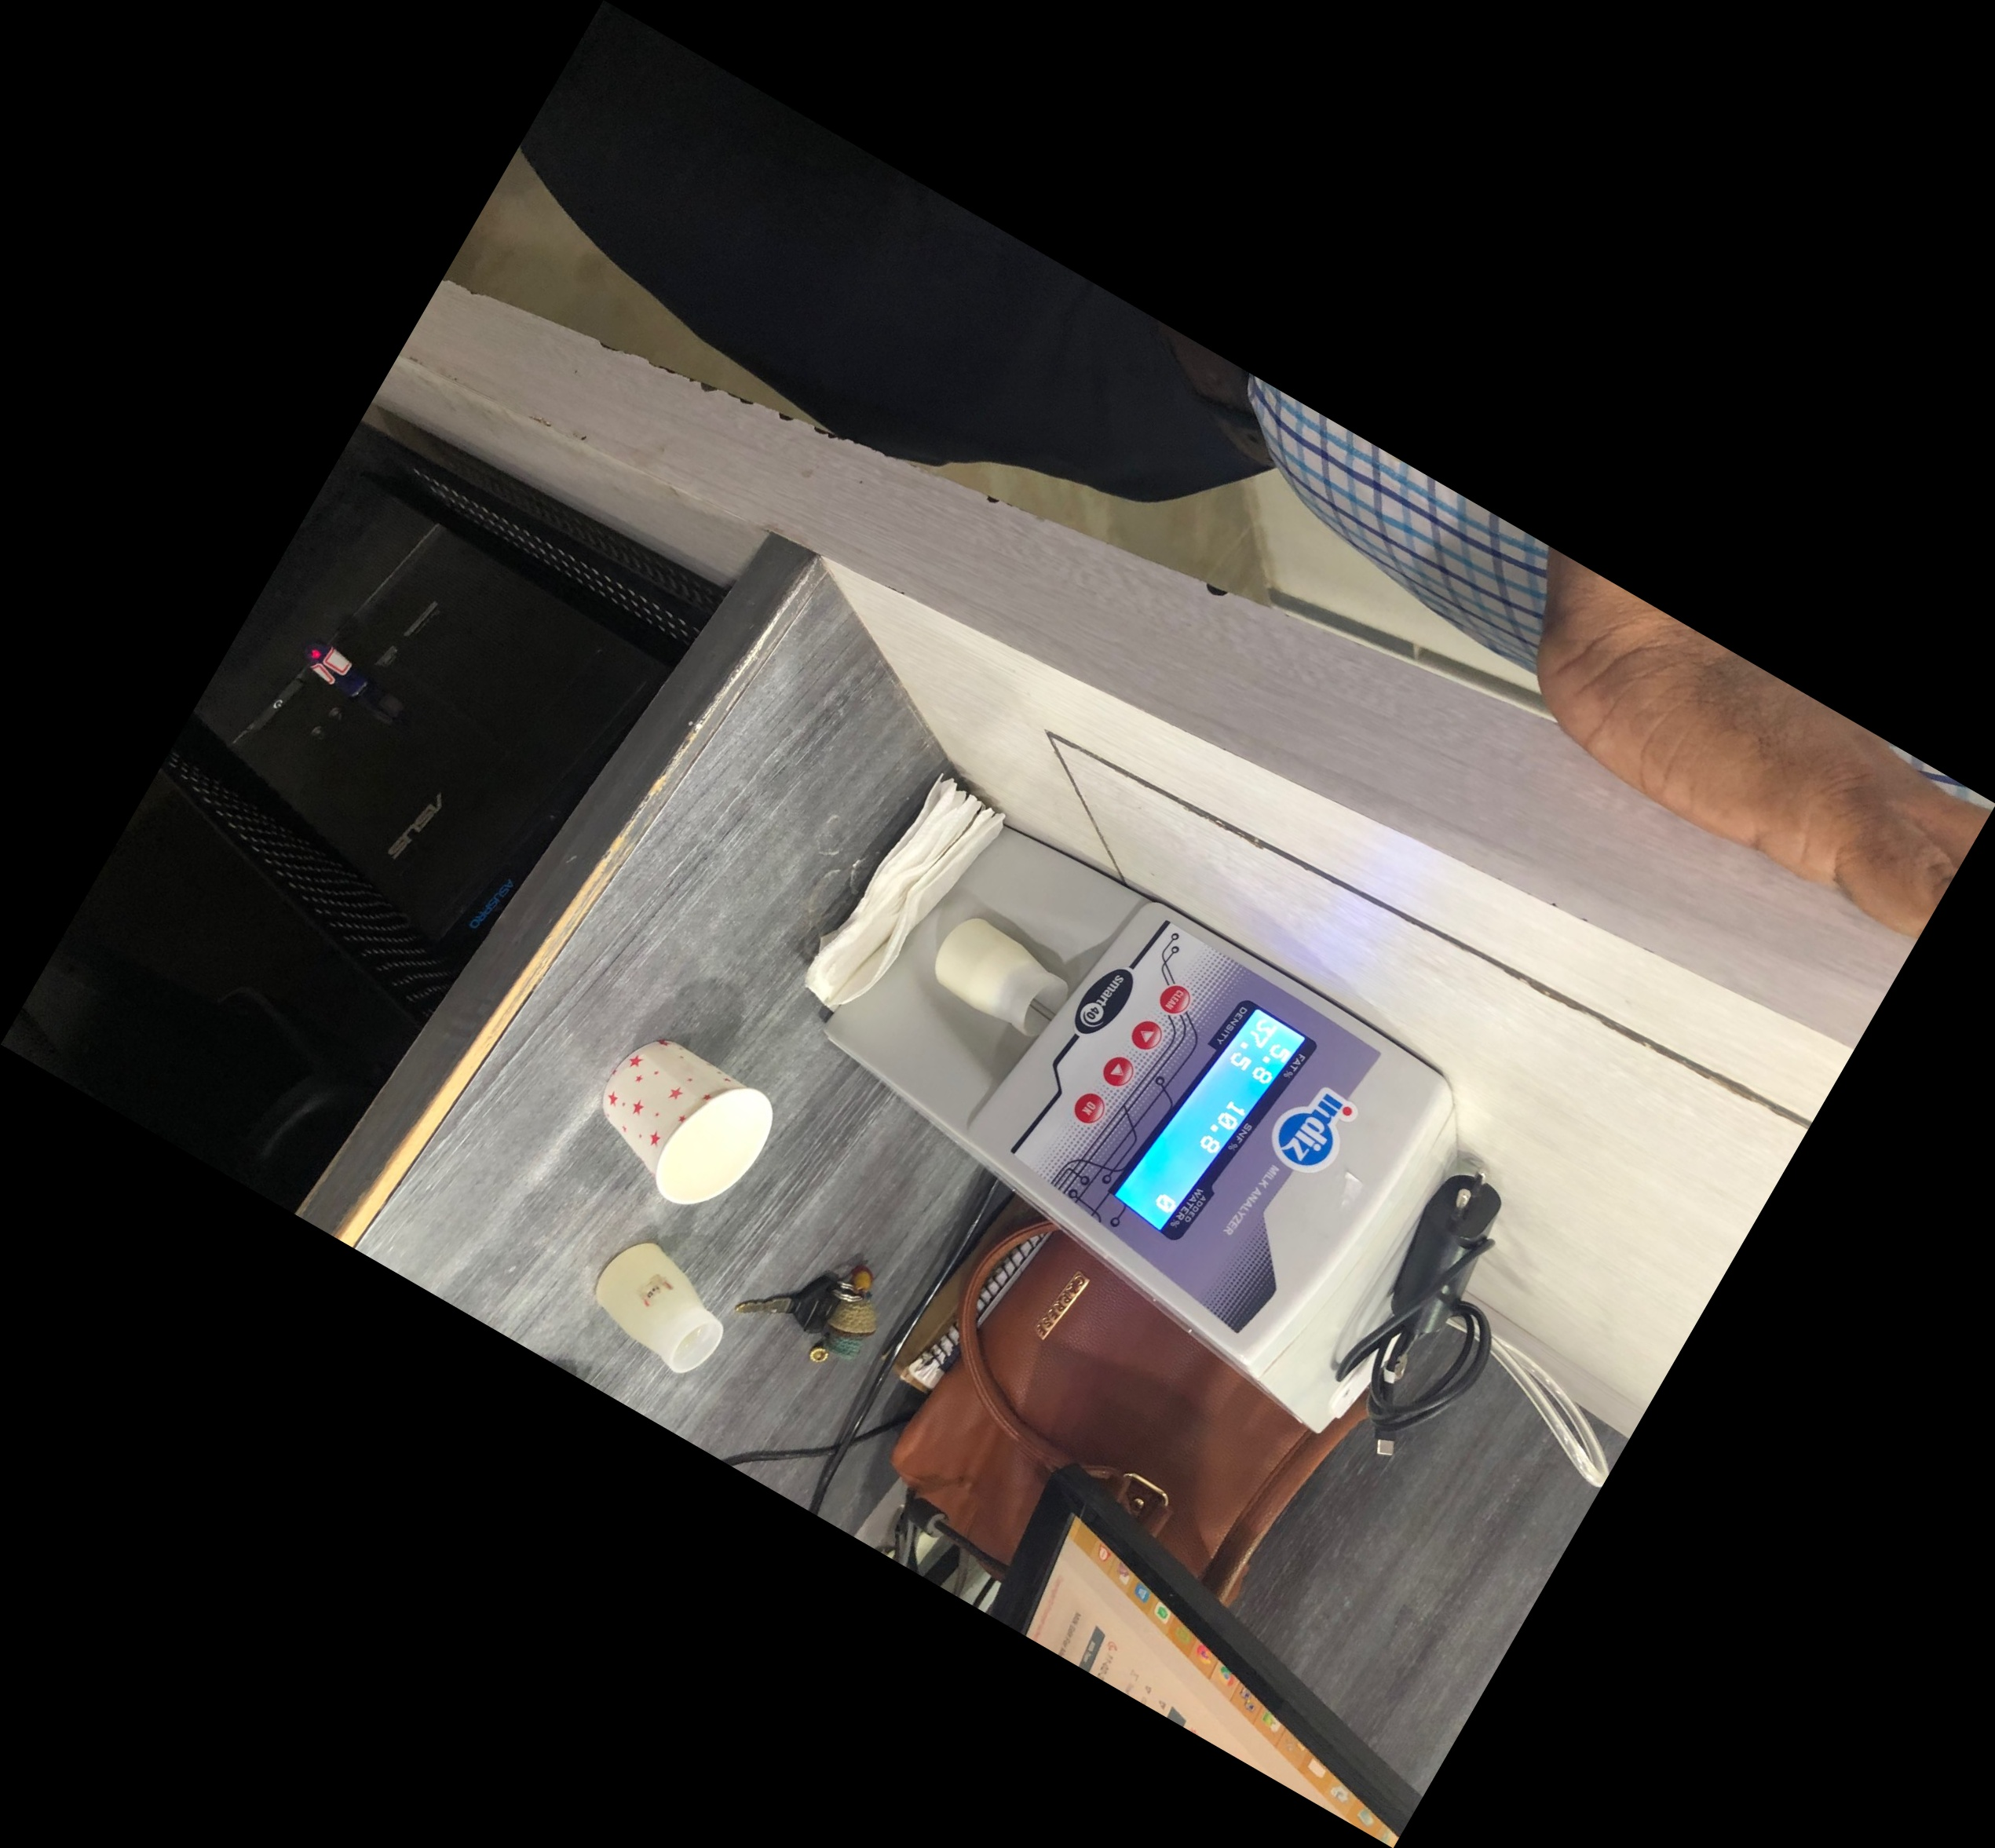lcd: (1105, 980, 1329, 1257)
